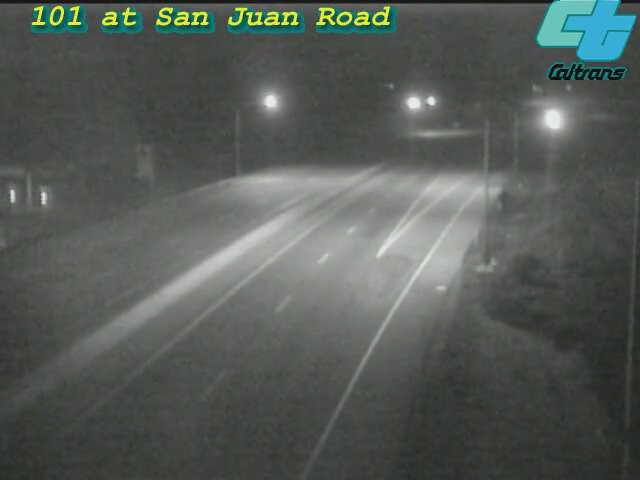vehicle: (526, 95, 576, 145)
